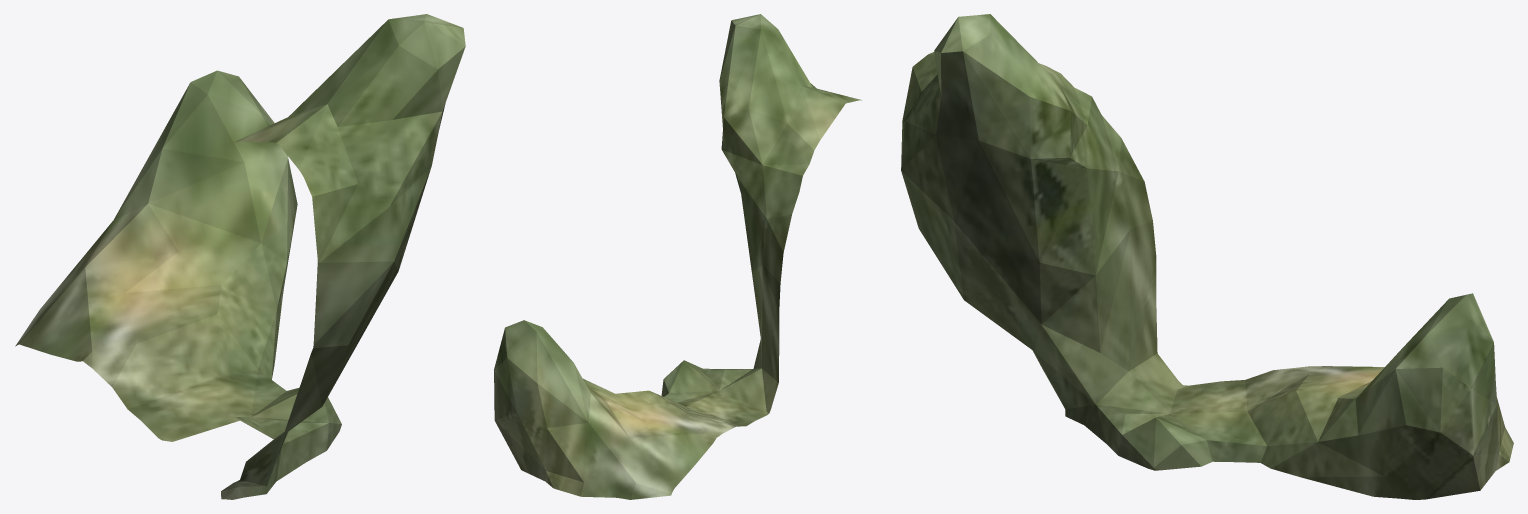
3 views of the same model, side by side, from view 1: azimuth 30°, elevation 25°; view 2: azimuth 150°, elevation 25°; view 3: azimuth 270°, elevation 25° (orthographic). The views are drawn at different scales.
Size of the model in its own units: 0.6854 by 1.2 by 1.5.
1 material, 1 textured.
